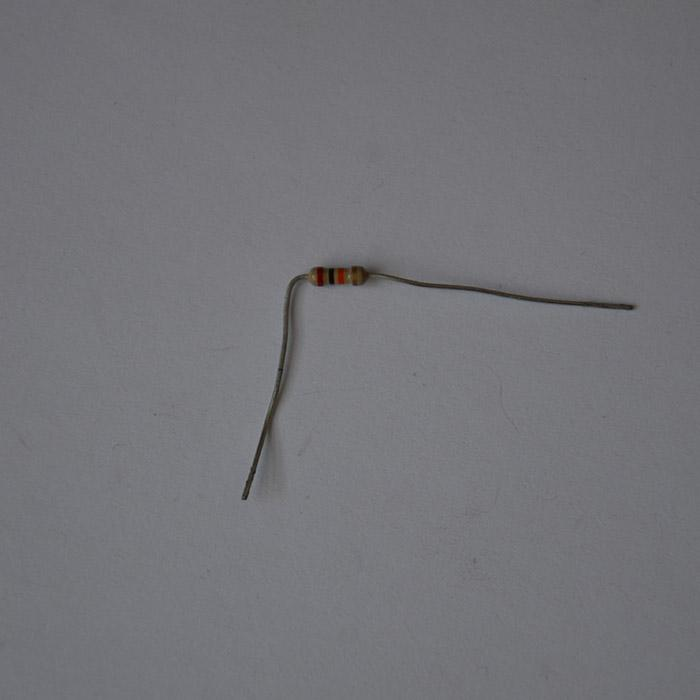resistor: (308, 265, 367, 286)
